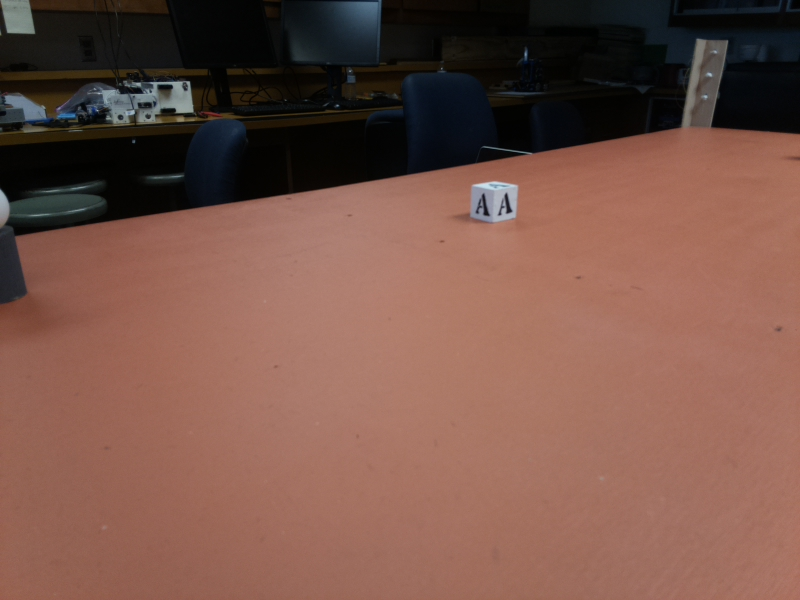blockA: (472, 178, 519, 224)
corner: (683, 35, 728, 126)
